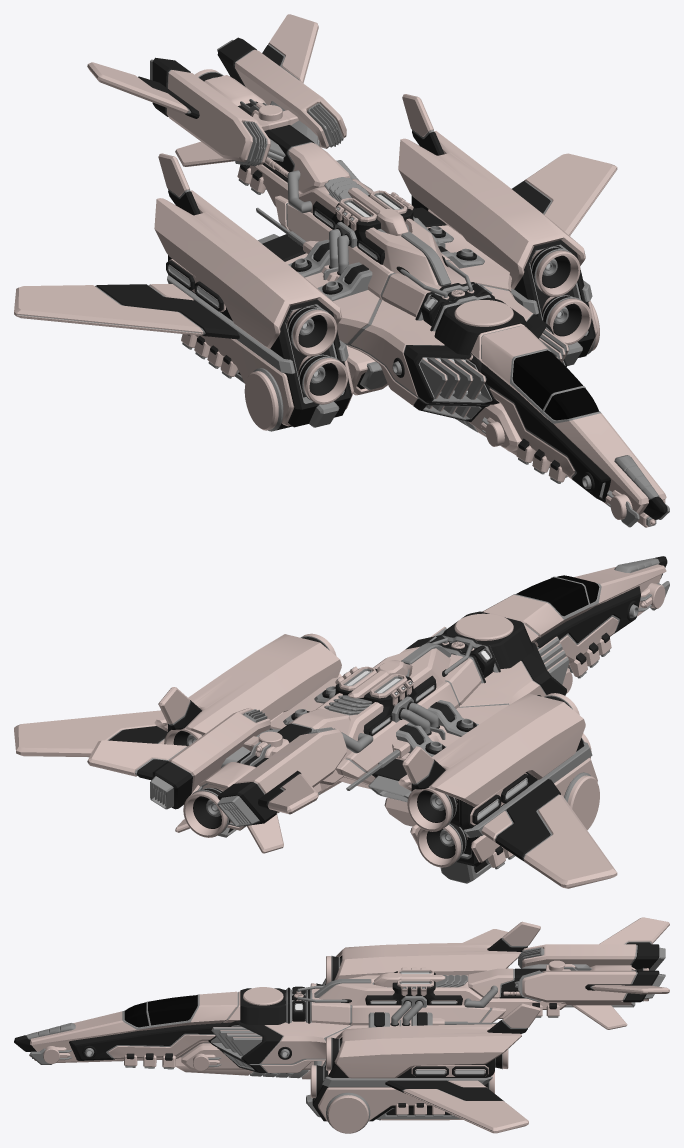
Rendered from Fat Eagle MKIII.fbx.
3 views of the same model, one above another, from view 1: azimuth 30°, elevation 25°; view 2: azimuth 150°, elevation 25°; view 3: azimuth 270°, elevation 25° (orthographic). The views are drawn at different scales.
Visible parts, largest first — view 1: Fat Eagle Mk III, Engine Parts, Engine R, Engine L, Centre Pieces; view 2: Fat Eagle Mk III, Engine Parts, Engine R, Engine L, Centre Pieces; view 3: Fat Eagle Mk III, Engine L, Engine Parts, Engine R, Centre Pieces.
Part boxes in pixels (x1,y1,x2,y2): Fat Eagle Mk III: [87, 14, 669, 527]; Engine Parts: [14, 153, 617, 431]; Engine R: [154, 153, 353, 427]; Engine L: [398, 94, 597, 365]; Centre Pieces: [195, 69, 655, 525]; Fat Eagle Mk III: [87, 556, 669, 853]; Engine Parts: [14, 633, 617, 888]; Engine R: [398, 693, 597, 883]; Engine L: [154, 634, 341, 735]; Centre Pieces: [183, 613, 513, 837]; Fat Eagle Mk III: [14, 917, 669, 1079]; Engine L: [306, 1003, 540, 1121]; Engine Parts: [310, 929, 528, 1133]; Engine R: [322, 921, 540, 985]; Centre Pieces: [29, 960, 648, 1057].
Size of the model in its own units: 4474 by 1322 by 6149.
